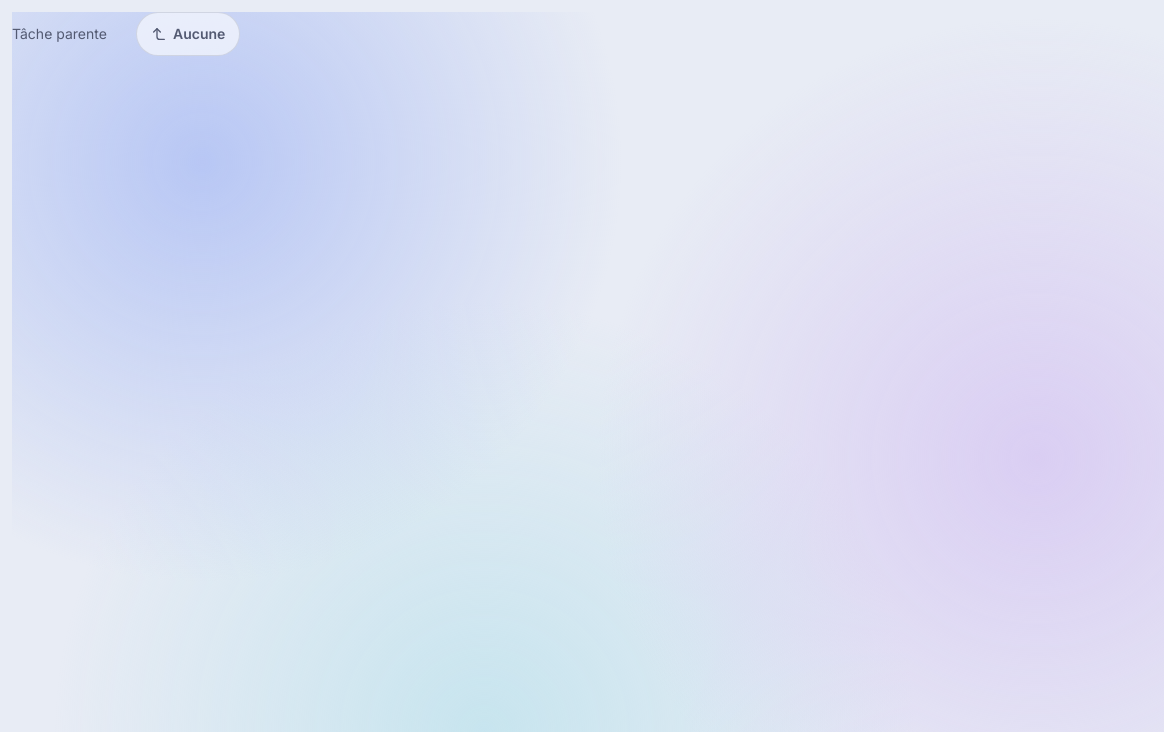
propriété « Tâche parente » › refus subtask_depth traduit sous le champ
Click the button with aria-label "Tâche parente : Aucune".
click(188, 34)  # box [136,12,240,56]
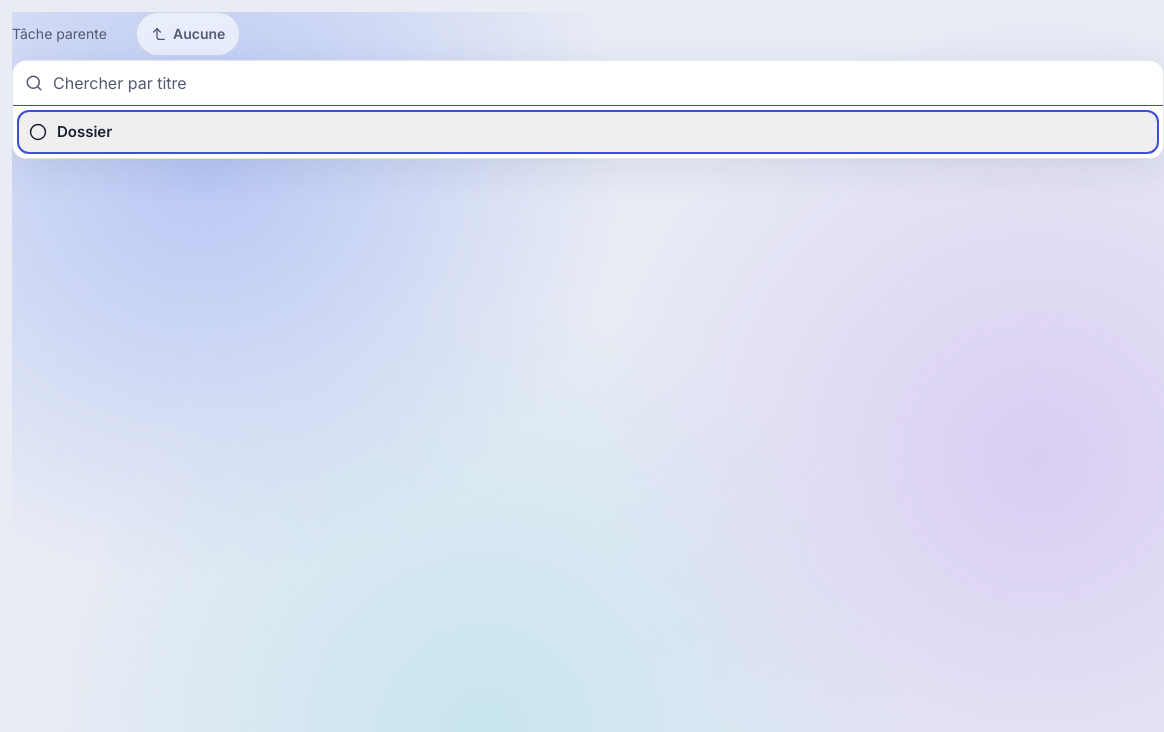
Click the option "Dossier".
click(85, 131)  # box [17,110,1159,154]
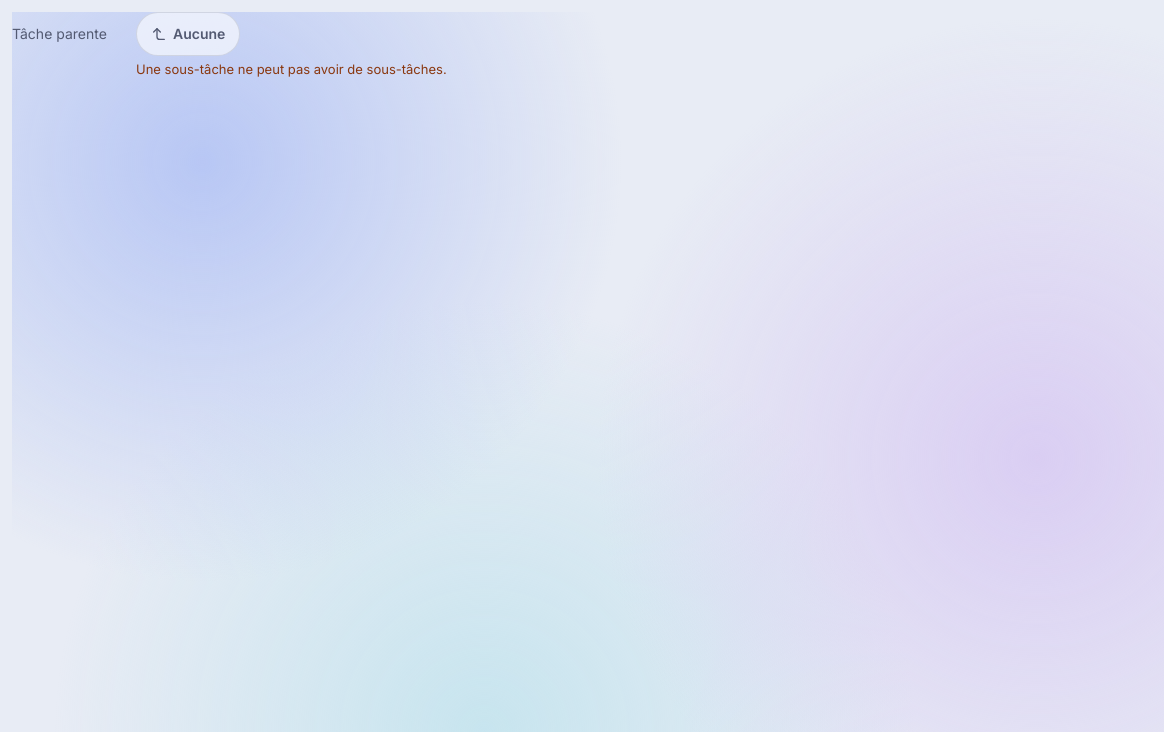
Expected: the message reads "Une sous-tâche ne peut pas avoir de sous-tâches.", [136,61,447,77]
